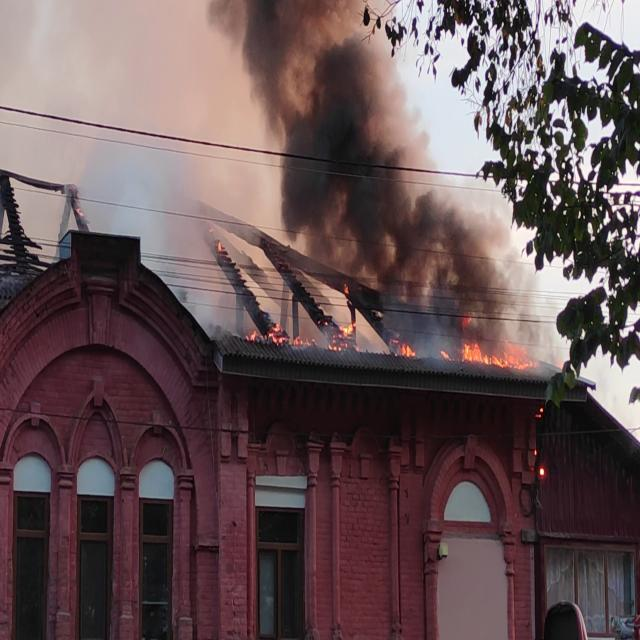fire: (456, 307, 536, 374)
smoke: (282, 42, 448, 274)
